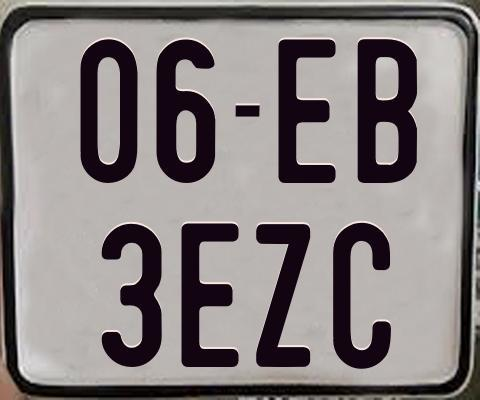0: (78, 39, 140, 188)
3: (100, 221, 166, 364)
6: (156, 38, 219, 183)
B: (355, 37, 415, 184)
C: (330, 221, 392, 371)
E: (178, 223, 241, 373), (277, 38, 337, 186)
Z: (253, 221, 313, 367)
